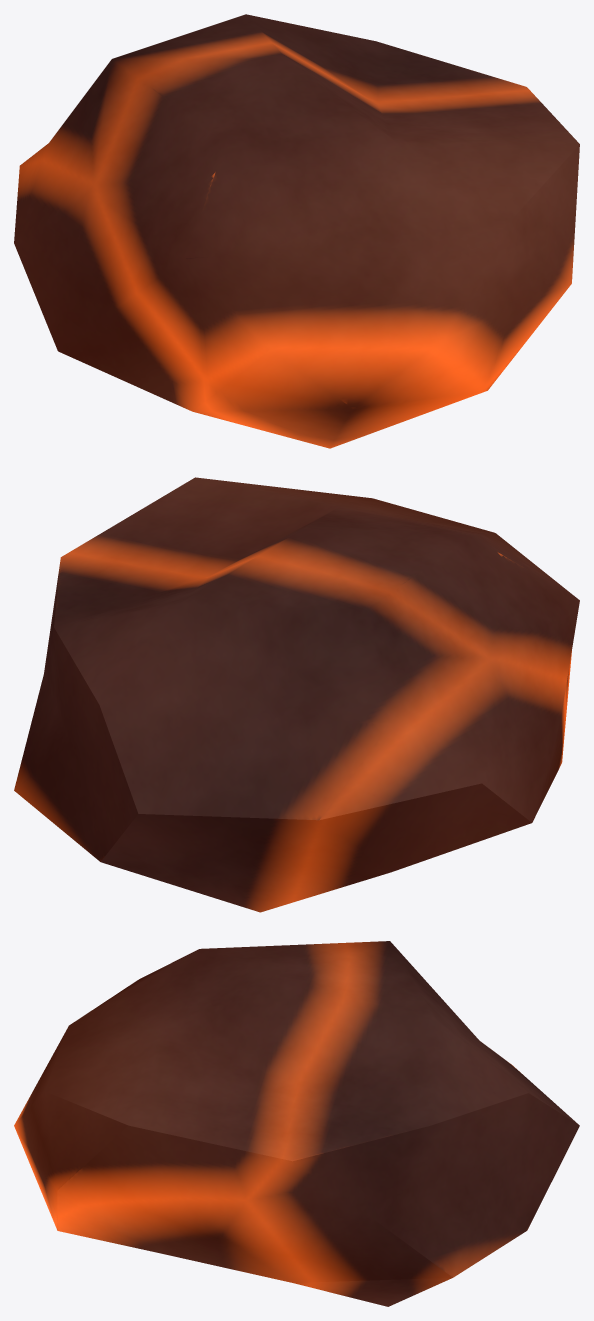
The model's file is SM_Coal_C.glb.
3 renders of one model, top to bottom at view 1: azimuth 30°, elevation 25°; view 2: azimuth 150°, elevation 25°; view 3: azimuth 270°, elevation 25°, orthographic. The views are drawn at different scales.
Visible parts, largest first — view 1: SM_Coal_C; view 2: SM_Coal_C; view 3: SM_Coal_C.
Part boxes in pixels (x1,y1,x2,y2): SM_Coal_C: (14, 14, 579, 448); SM_Coal_C: (14, 477, 579, 912); SM_Coal_C: (14, 941, 579, 1306).
Size of the model in its own units: 0.0659 by 0.0447 by 0.0784.
Materials: 1 (1 with a texture image).
